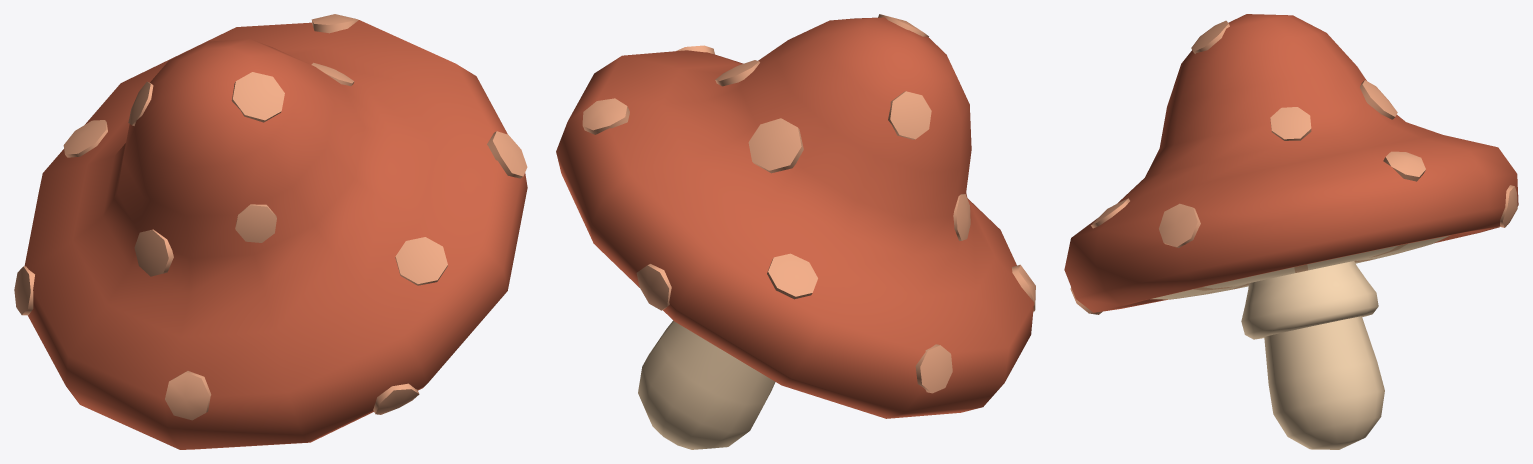
3 renders of one model, left to right at view 1: azimuth 30°, elevation 25°; view 2: azimuth 150°, elevation 25°; view 3: azimuth 270°, elevation 25°, orthographic. The views are drawn at different scales.
Visible parts, largest first — view 1: model_1.026; view 2: model_1.026; view 3: model_1.026.
Part boxes in pixels (x1,y1,x2,y2): model_1.026: [14, 14, 527, 449]; model_1.026: [556, 14, 1035, 449]; model_1.026: [1064, 14, 1518, 449].
Size of the model in its own units: 4.15 by 4.01 by 4.43.
